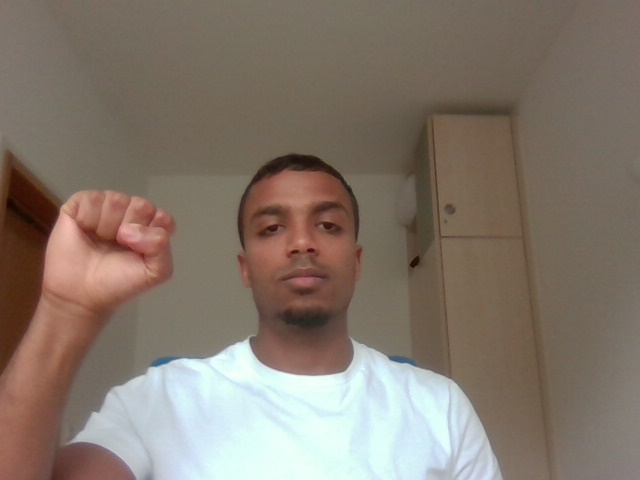neutral: (34, 168, 195, 339), (39, 161, 186, 324)
